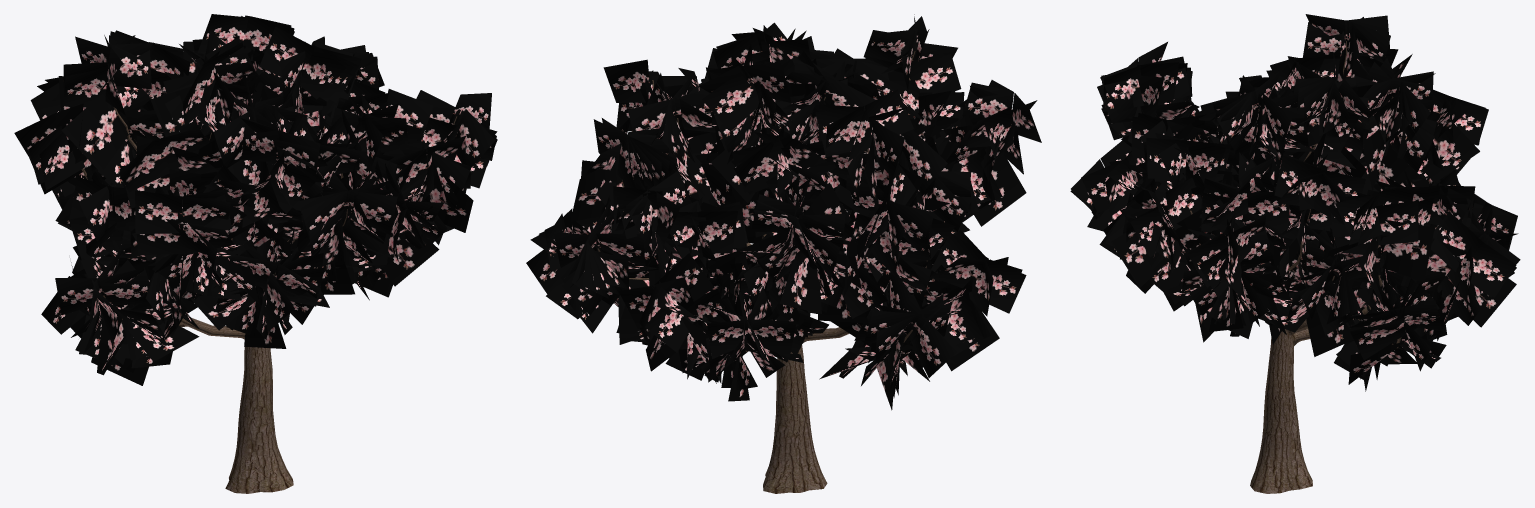
The model's file is sakura-tree-v2.glb.
The picture shows the model from 3 angles, left to right: view 1: azimuth 30°, elevation 25°; view 2: azimuth 150°, elevation 25°; view 3: azimuth 270°, elevation 25°; orthographic projection. The views are drawn at different scales.
Parts seen in each view (by area): view 1: Sakura; view 2: Sakura; view 3: Sakura.
Part boxes in pixels (left/top/right/bottom): Sakura: left=14, top=14, right=497, bottom=493; Sakura: left=526, top=14, right=1041, bottom=493; Sakura: left=1070, top=14, right=1520, bottom=493.
Bounding box in the file's own units: 0.4036 × 0.4172 × 0.4016.
Materials: 2 (2 with a texture image).
